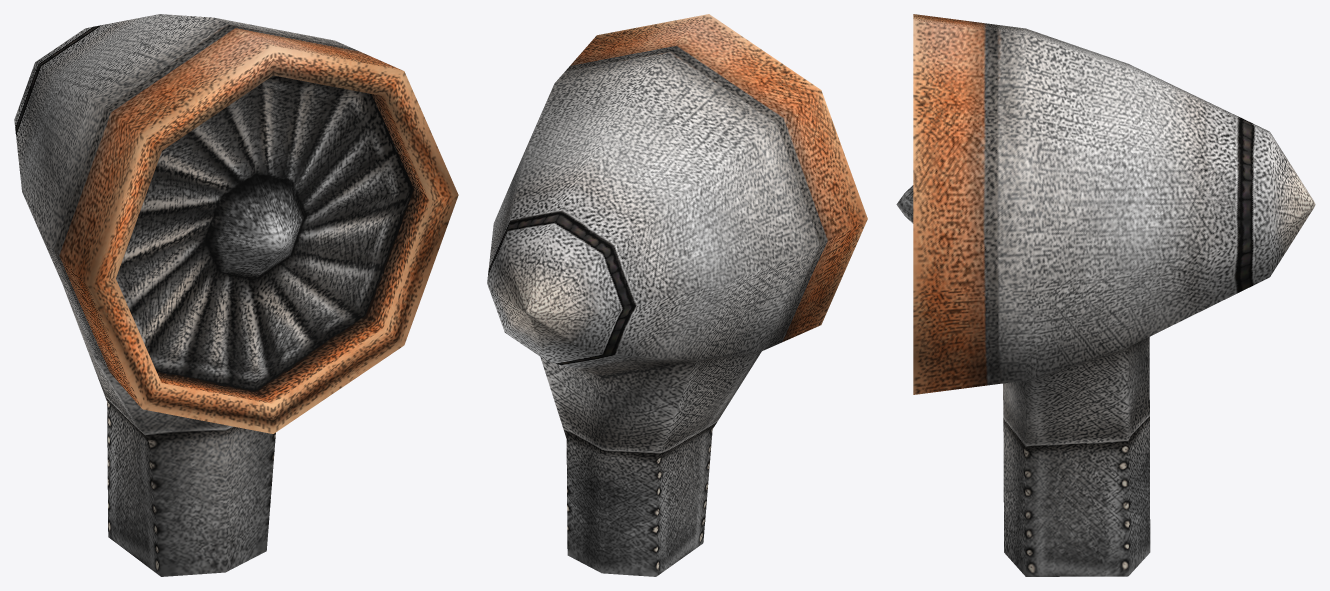
File: HEAD_TURBINE.fbx
3 renders of one model, left to right at view 1: azimuth 30°, elevation 25°; view 2: azimuth 150°, elevation 25°; view 3: azimuth 270°, elevation 25°, orthographic. The views are drawn at different scales.
Visible parts, largest first — view 1: HEAD_TURBINE; view 2: HEAD_TURBINE; view 3: HEAD_TURBINE.
Boxes of the visible parts, x1,y1,x2,y2 form: HEAD_TURBINE: (14, 14, 458, 576); HEAD_TURBINE: (487, 14, 867, 576); HEAD_TURBINE: (896, 14, 1315, 576).
Size of the model in its own units: 0.0119 by 0.0173 by 0.0124.
